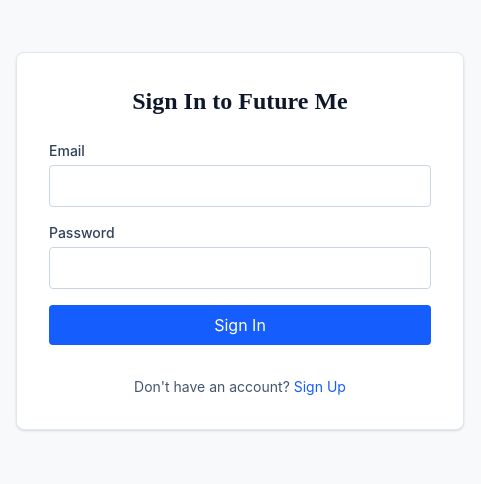
Test: AuthPage › normalizes email, signs up successfully, and handles success-without-user error
Click the button "Sign Up".
click(320, 387)  # box [294,377,346,397]
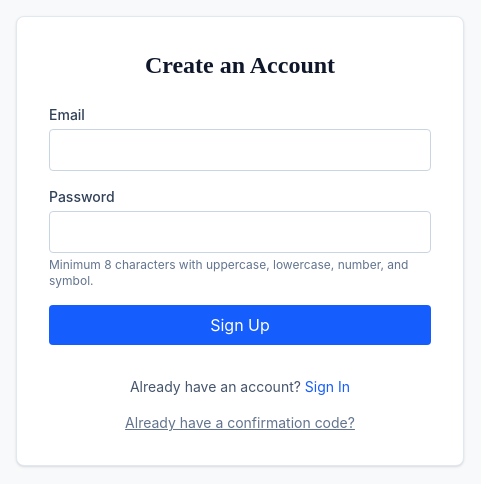
Type "  TEST@example.com  " into the field labelled "Email".
click(240, 150); type("  TEST@example.com  ")  # box [49,129,431,171]
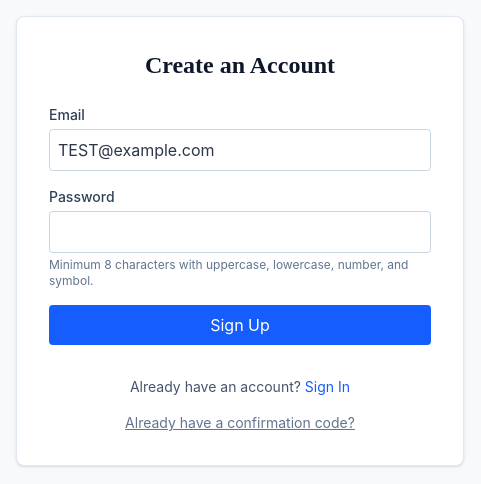
Type "Valid123!" into the password field labelled "Password".
click(240, 232); type("Valid123!")  # box [49,211,431,253]
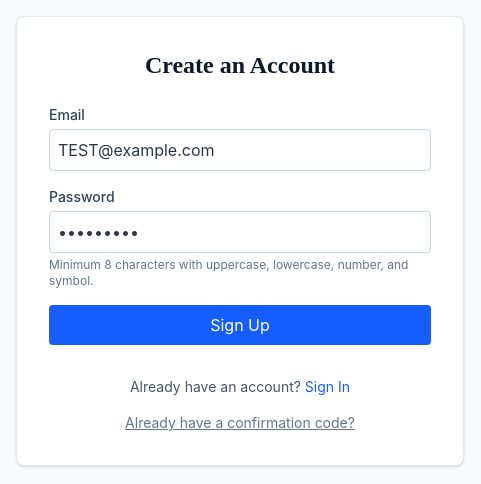
Click the button "Sign Up".
click(240, 325)  # box [49,305,431,345]
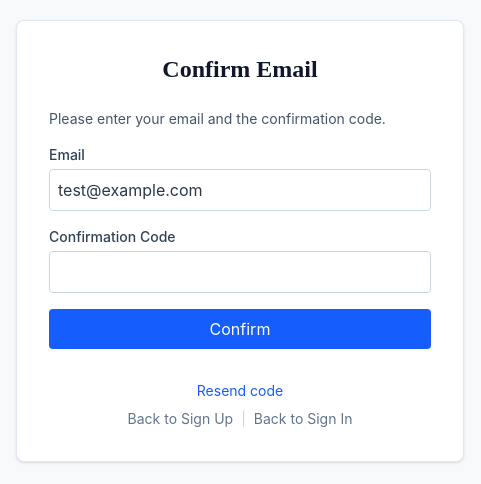
expect the heading "Confirm Email" is shown: met, box [162,56,318,82]
